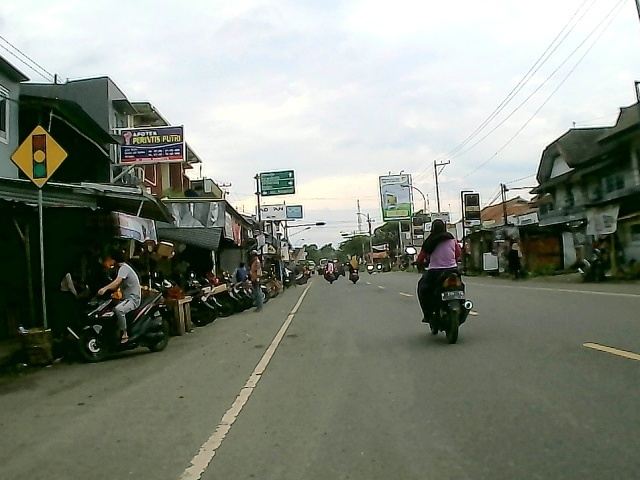Lampu isyarat: (7, 124, 70, 190)
